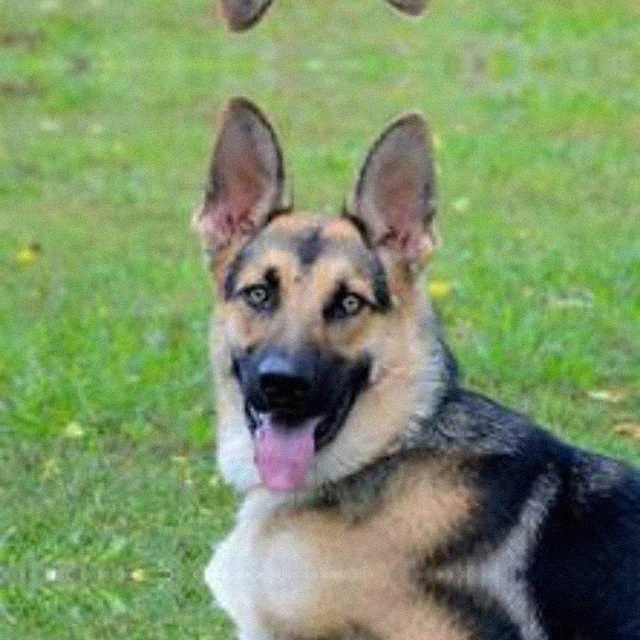dog: (57, 90, 563, 565), (57, 582, 563, 640), (57, 0, 563, 37)
